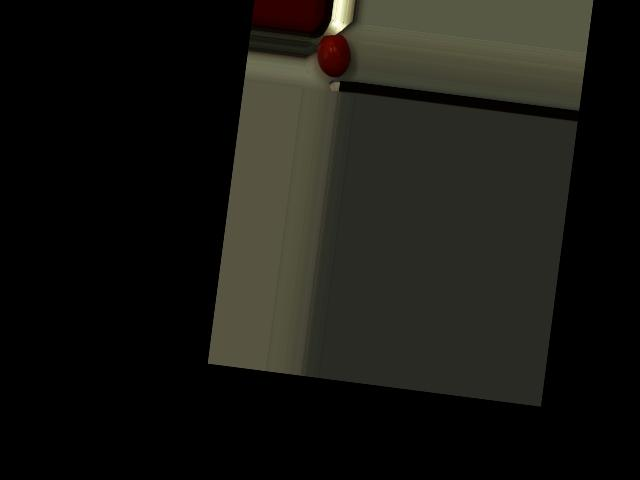tomato: (314, 32, 353, 78)
